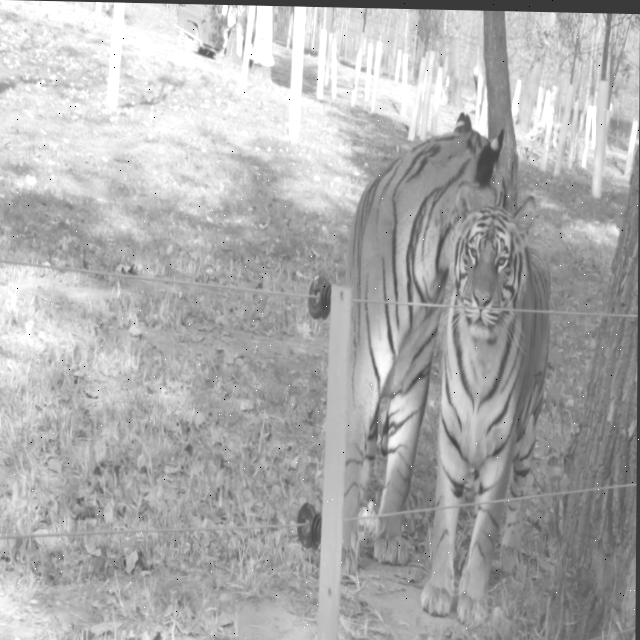Tiger: (340, 108, 508, 578)
